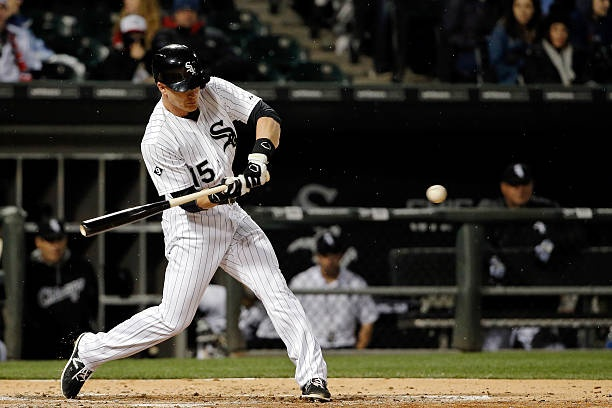bita: (73, 170, 261, 240)
